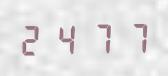four: (51, 20, 83, 56)
seven: (84, 19, 116, 55), (117, 19, 149, 54)
two: (18, 21, 50, 56)
